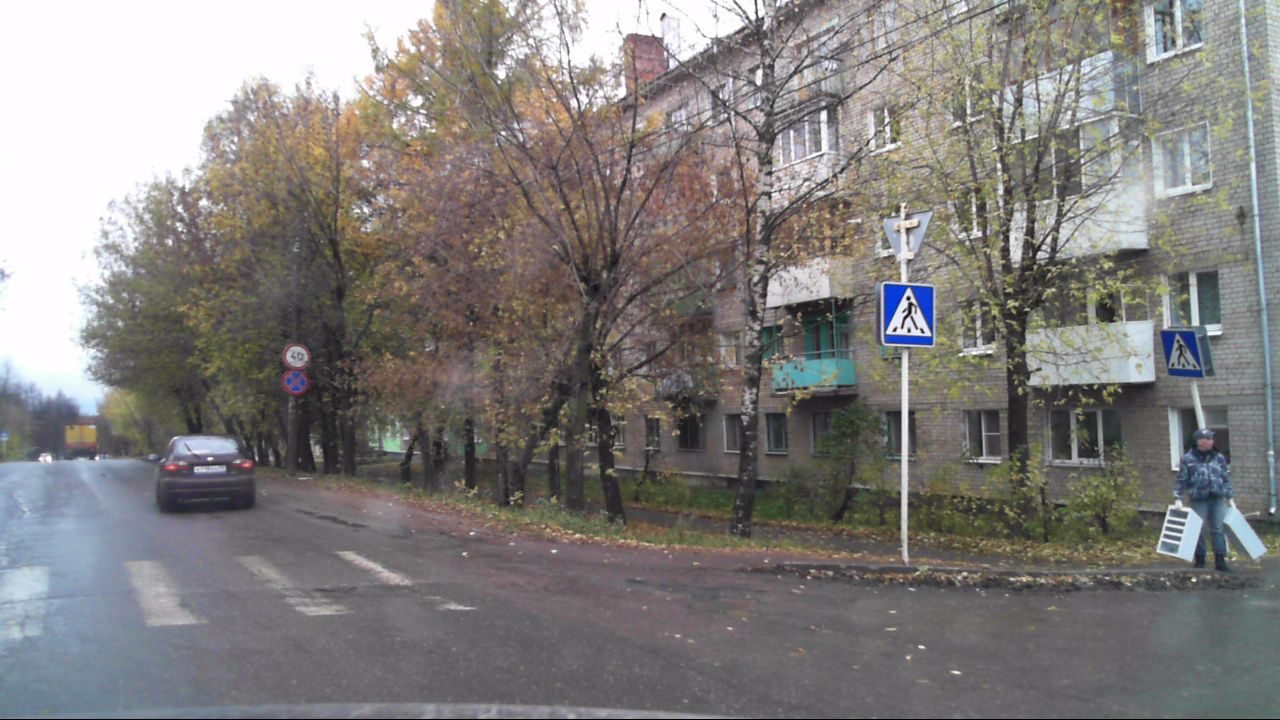No Parking: (279, 367, 308, 397)
speed_warning_40: (280, 343, 311, 368)
